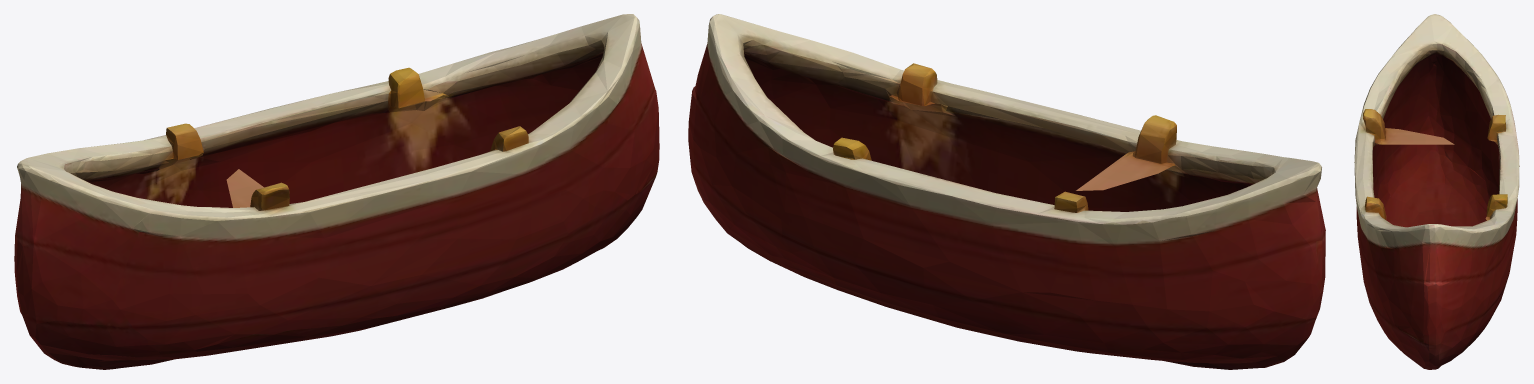
File: canoe.glb
The picture shows the model from 3 angles, left to right: view 1: azimuth 30°, elevation 25°; view 2: azimuth 150°, elevation 25°; view 3: azimuth 270°, elevation 25°; orthographic projection. The views are drawn at different scales.
Parts seen in each view (by area): view 1: geometry_0; view 2: geometry_0; view 3: geometry_0.
Boxes of the visible parts, box(x1,y1,x2,y2) form: geometry_0: box(14, 14, 659, 369); geometry_0: box(688, 14, 1325, 369); geometry_0: box(1354, 14, 1519, 369).
Size of the model in its own units: 0.9987 by 0.3516 by 0.3146.
1 material, 1 textured.
